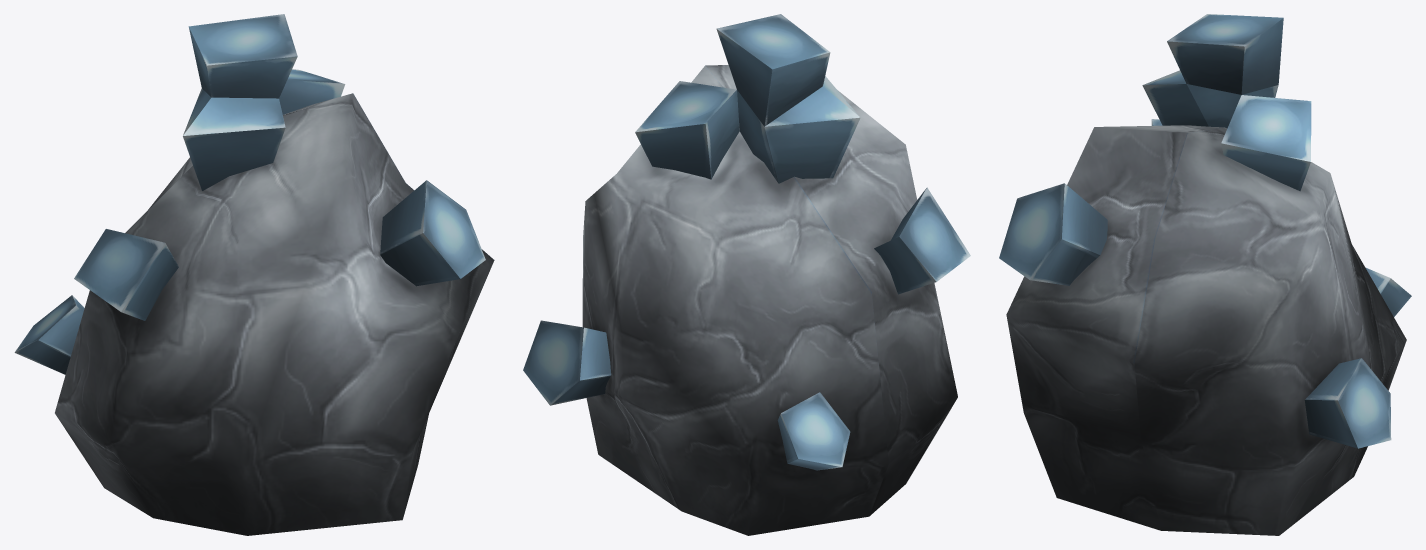
File: ore_medium_iron.fbx
3 views of the same model, side by side, from view 1: azimuth 30°, elevation 25°; view 2: azimuth 150°, elevation 25°; view 3: azimuth 270°, elevation 25° (orthographic).
Parts seen in each view (by area): view 1: ore_medium_iron:Mesh; view 2: ore_medium_iron:Mesh; view 3: ore_medium_iron:Mesh.
Part boxes in pixels (<box>): ore_medium_iron:Mesh: <box>14,14,494,535</box>; ore_medium_iron:Mesh: <box>523,14,970,535</box>; ore_medium_iron:Mesh: <box>999,14,1411,535</box>.
Size of the model in its own units: 3.89 by 4.44 by 3.78.
